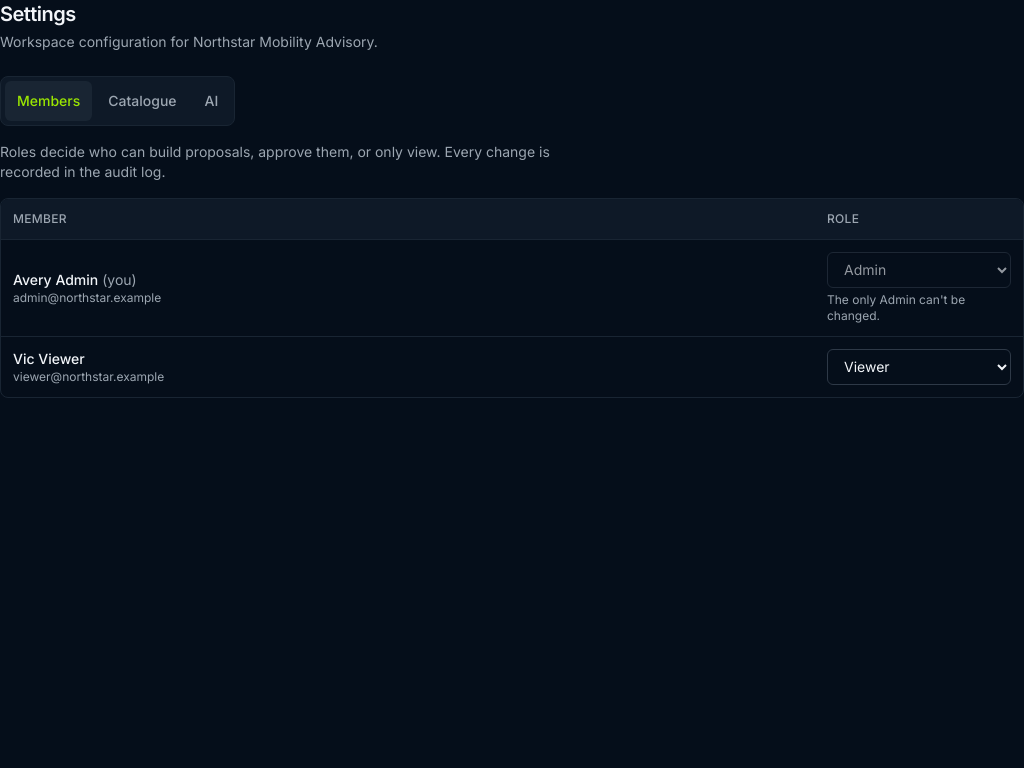
Test: SettingsPage › changes a role after confirmation
Select "Approver" in the dropdown named "Role for Vic Viewer" at x=919, y=366, box [827, 348, 1011, 384]
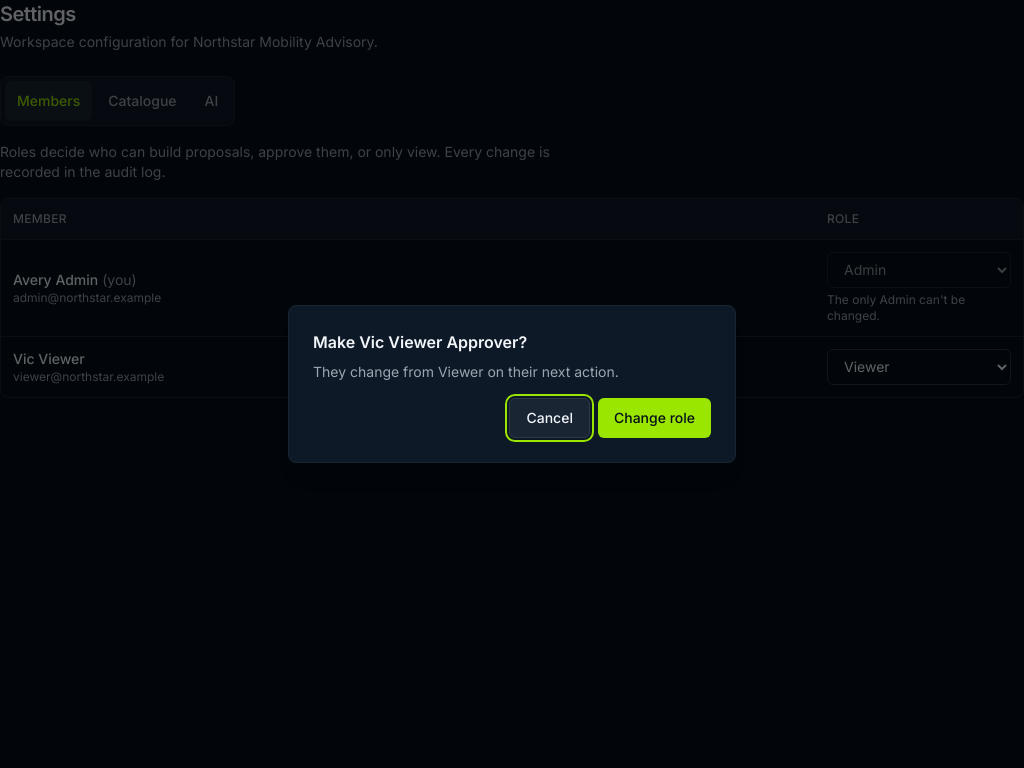
Click the button "Change role" at x=654, y=418, box [598, 398, 711, 438]
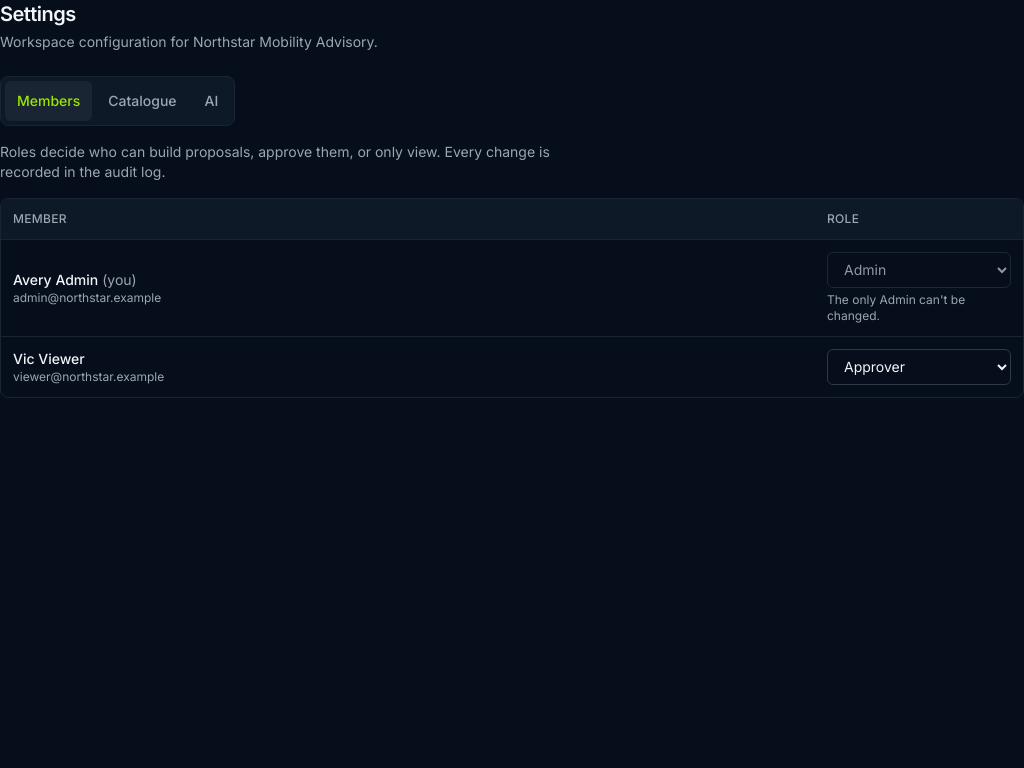
Expected: the dialog is gone
